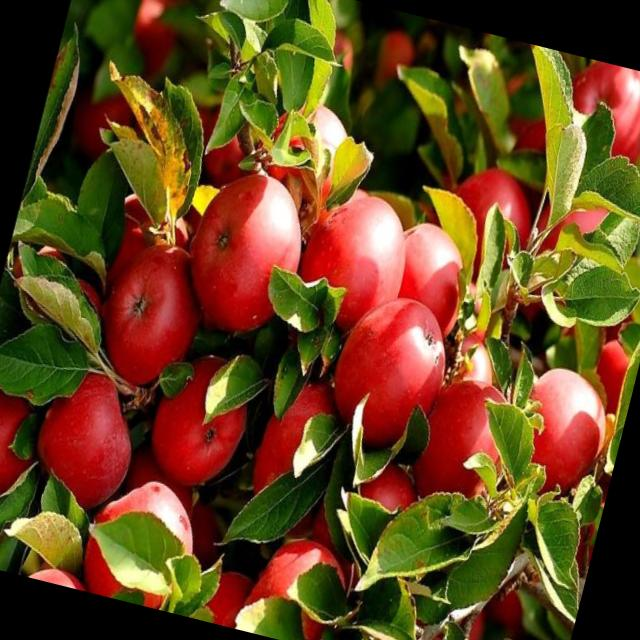Tao: (276, 152, 422, 350), (174, 162, 317, 342), (312, 288, 458, 457), (24, 361, 150, 516), (413, 348, 528, 515), (75, 466, 206, 612), (90, 238, 210, 397), (531, 51, 640, 211), (242, 377, 356, 528), (138, 353, 256, 497), (497, 357, 607, 506), (323, 460, 419, 591), (240, 539, 358, 640), (381, 222, 473, 344), (370, 566, 493, 640), (0, 372, 48, 518), (174, 546, 252, 628)
